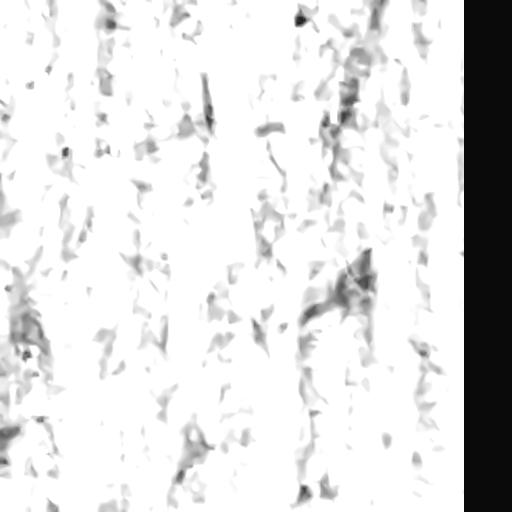egg: (294, 9, 308, 26)
